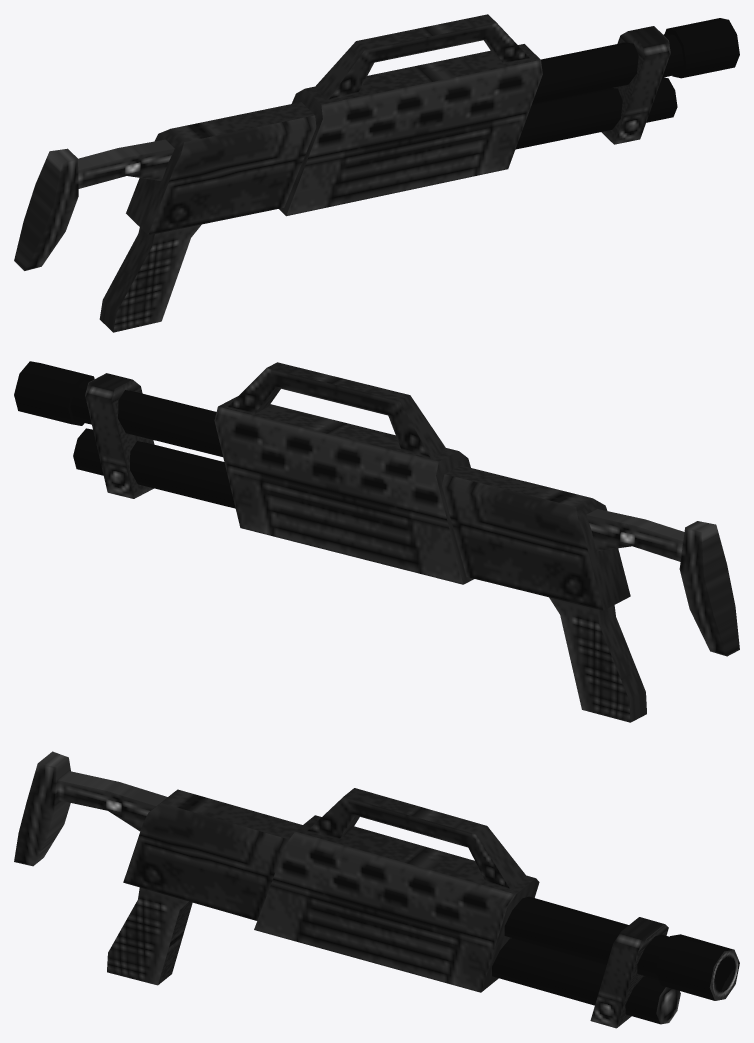
Rendered from p_shotgun.glb.
The picture shows the model from 3 angles, top to bottom: view 1: azimuth 30°, elevation 25°; view 2: azimuth 150°, elevation 25°; view 3: azimuth 330°, elevation 25°; orthographic projection. The views are drawn at different scales.
Visible parts, largest first — view 1: p_shotgun; view 2: p_shotgun; view 3: p_shotgun.
Boxes of the visible parts, x1,y1,x2,y2 form: p_shotgun: (14,14,739,332); p_shotgun: (14,361,739,722); p_shotgun: (14,751,739,1028).
Size of the model in its own units: 30.79 by 10.11 by 3.33.
Materials: 2 (2 with a texture image).
